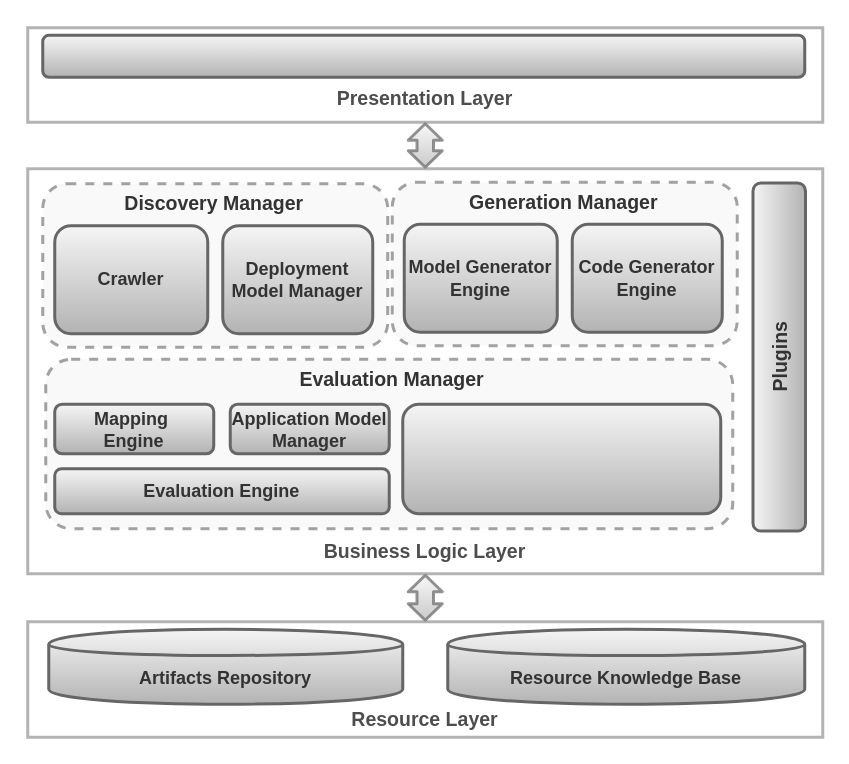
The diagram is 849 pixels wide and 764 high, and some of its shapes have lost their labels. The shapes that lost their labels are listed below. From the top down, each one's box as (x1, y1, x2, y2) in pixels, then its label:
(40, 33, 806, 78): Angular client
(400, 402, 722, 514): Code Analysis Engine
